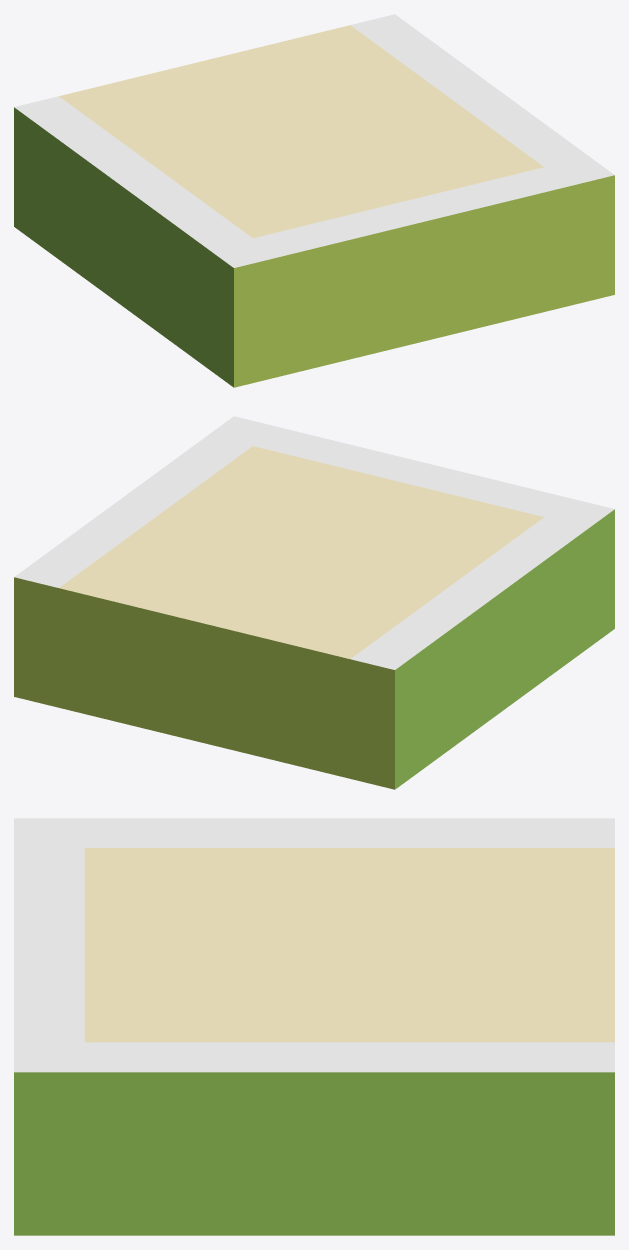
File: floor_basic5.fbx
3 renders of one model, top to bottom at view 1: azimuth 30°, elevation 25°; view 2: azimuth 150°, elevation 25°; view 3: azimuth 270°, elevation 25°, orthographic. The views are drawn at different scales.
Visible parts, largest first — view 1: floor_basic5; view 2: floor_basic5; view 3: floor_basic5.
Boxes of the visible parts, box(x1,y1,x2,y2) form: floor_basic5: box(14, 14, 614, 387); floor_basic5: box(14, 416, 614, 789); floor_basic5: box(14, 818, 614, 1235).
Bounding box in the file's own units: 100 × 30 × 100.
